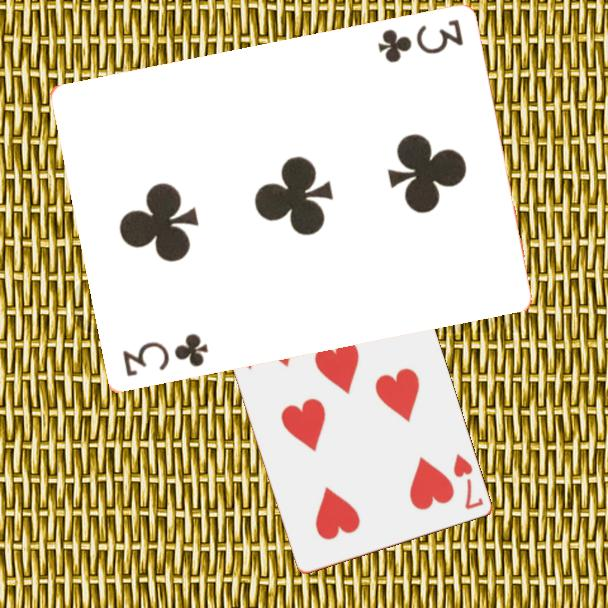c03: (118, 330, 211, 380), (374, 16, 466, 66)
h07: (449, 450, 486, 512)
